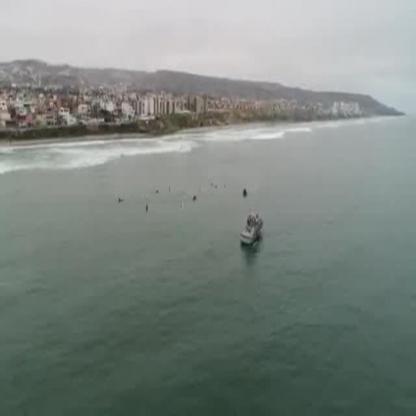Boat: (239, 211, 263, 242)
